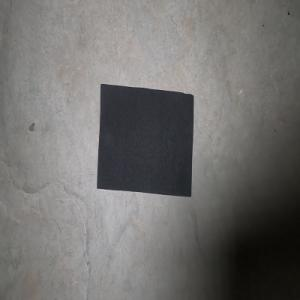PaintChip: (96, 83, 194, 196)
